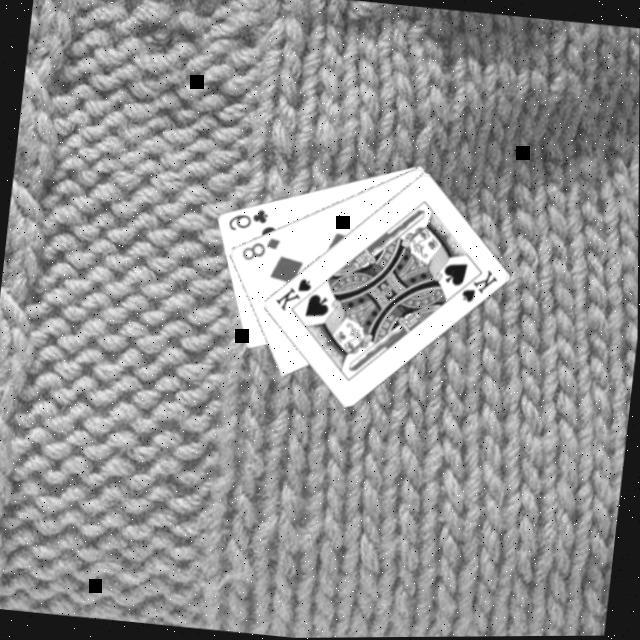6C: (225, 200, 272, 234)
8D: (238, 228, 284, 264)
KS: (450, 261, 502, 307), (272, 270, 316, 315)
